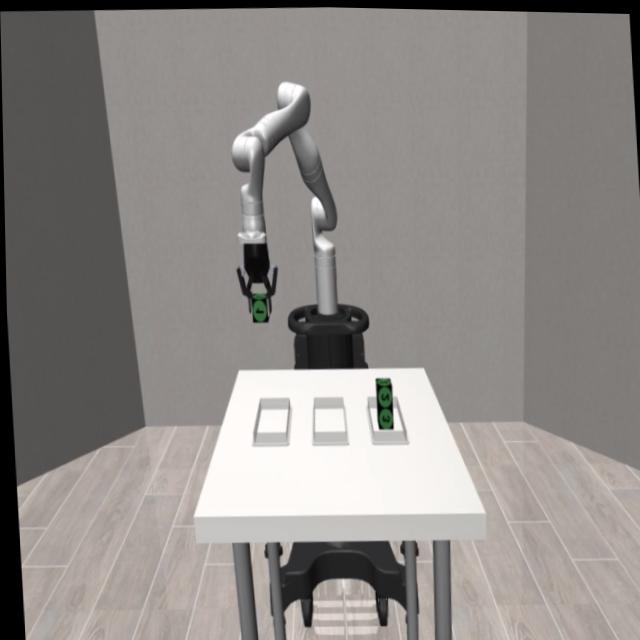cube1: (249, 290, 269, 320)
cube2: (372, 373, 392, 405)
cube3: (374, 403, 390, 427)
